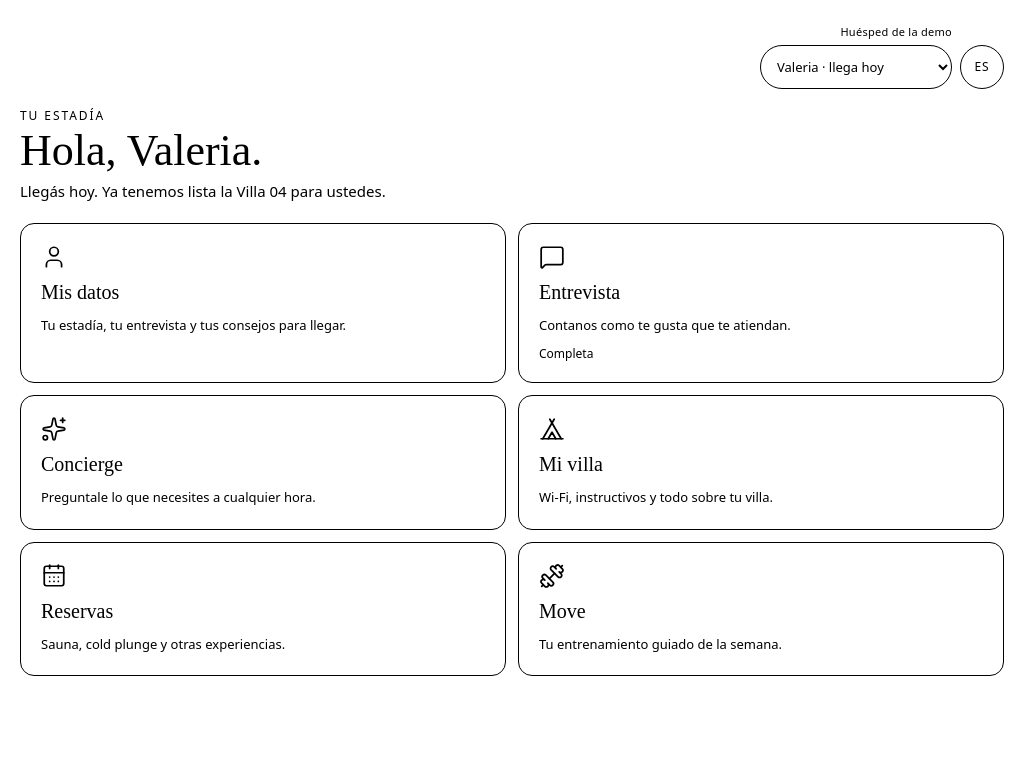
Test: selector de huésped › cambia de huésped sin recargar
Expected: the heading "Hola, Valeria." is shown, [20,126,262,175]
Select "Hannah · llega en 5 días" in the dropdown labelled "Huésped de la demo" at [856, 66], box [760,44,952,88]
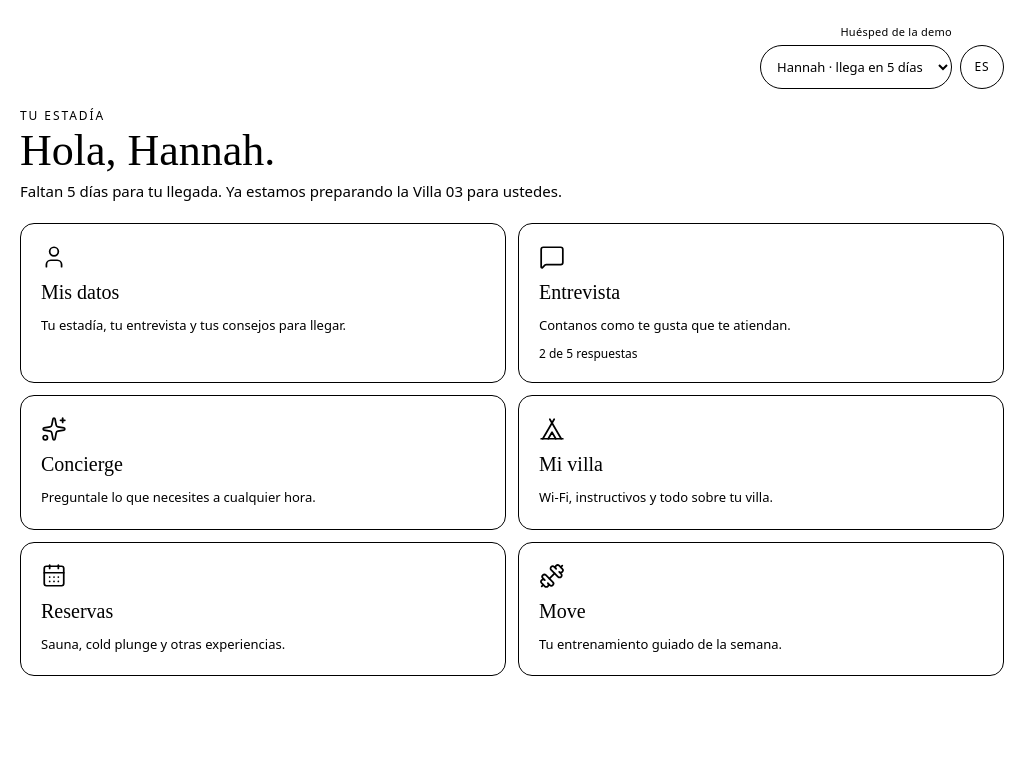
Expected: the heading "Hola, Hannah." is shown, [20,126,275,175]
